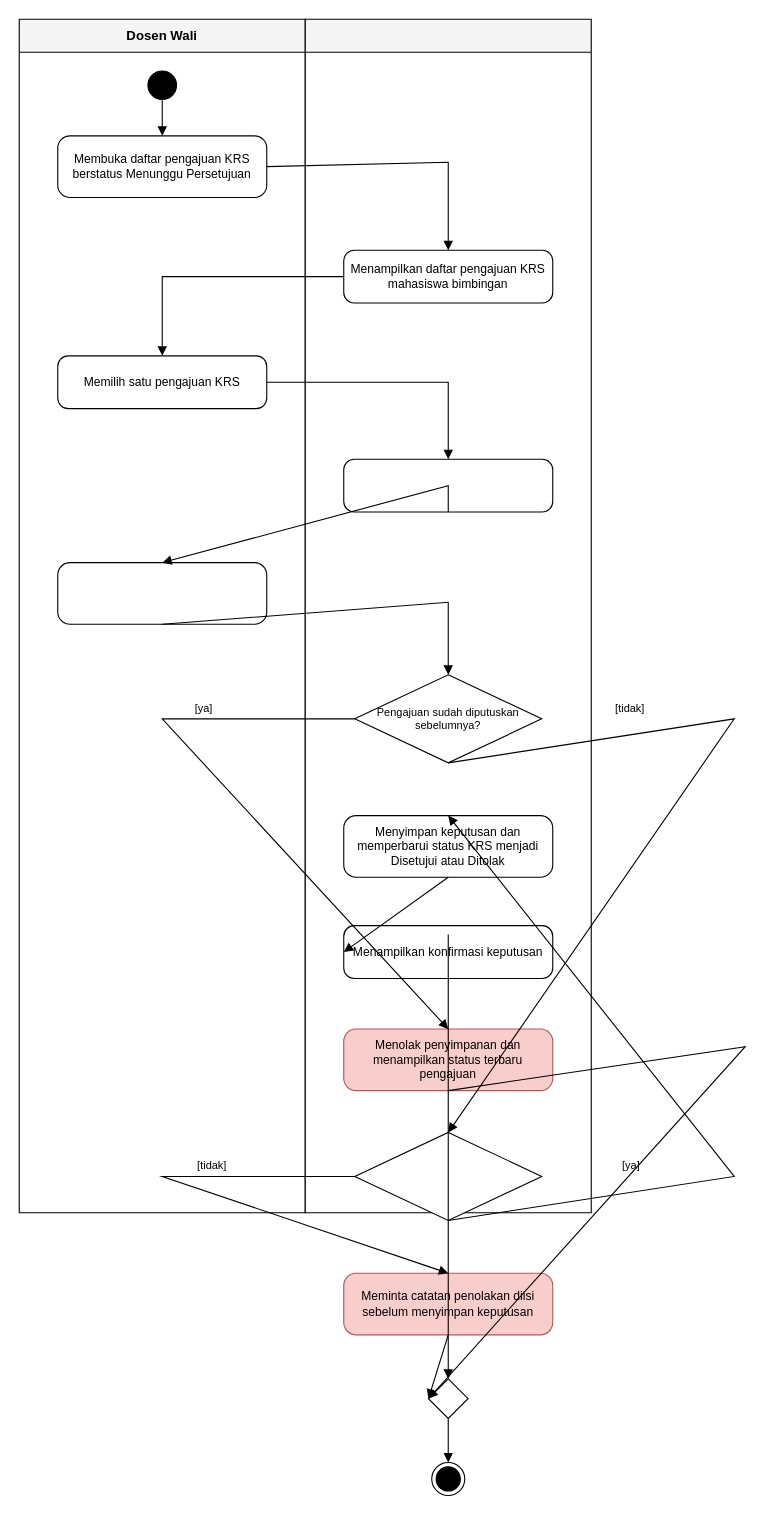
This 773x1515 diagram has some shape labels left out. The box of each missing label's shape, as (x1, y1, x2, y2) in pixels:
Catatan penolakan diisi?: (354, 1131, 542, 1220)
Menampilkan rincian KRS beserta hasil validasi: (343, 458, 553, 512)
Menetapkan Setujui atau Tolak beserta catatan keputusan: (57, 562, 267, 624)
Sistem: (304, 18, 591, 1213)
